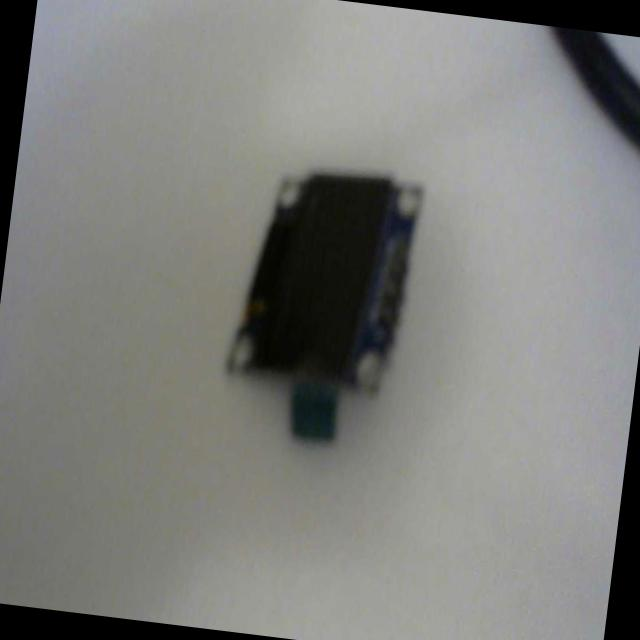oled: (218, 156, 432, 460)
